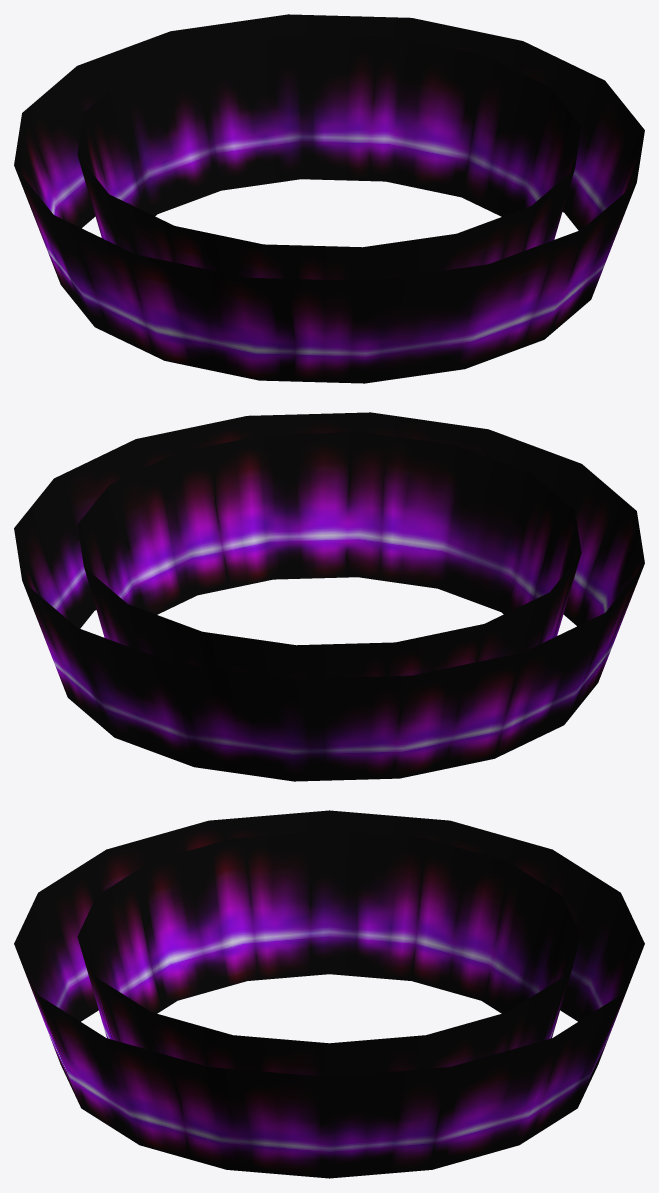
File: fx_cg_dimianguan_zi.FBX
The picture shows the model from 3 angles, top to bottom: view 1: azimuth 30°, elevation 25°; view 2: azimuth 150°, elevation 25°; view 3: azimuth 270°, elevation 25°; orthographic projection.
Parts seen in each view (by area): view 1: Cylinder001; view 2: Cylinder001; view 3: Cylinder001.
Part boxes in pixels (<box>): Cylinder001: <box>14,14,644,383</box>; Cylinder001: <box>14,412,644,781</box>; Cylinder001: <box>14,810,644,1178</box>.
Size of the model in its own units: 63.16 by 63.16 by 14.16.
